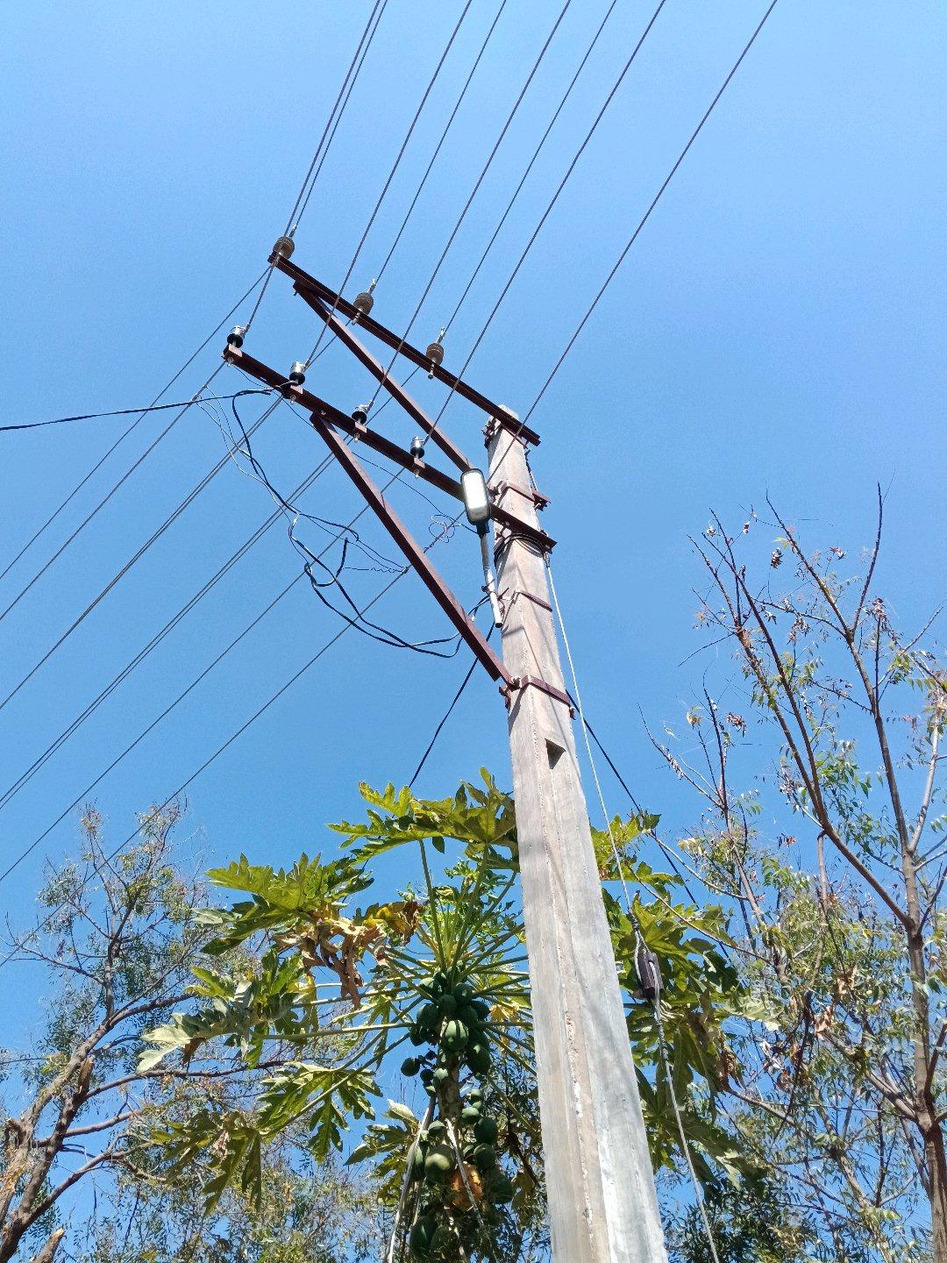{"0" "insulator", "1" "pole", "2" "crossarm", "3" "conductor", "4" "street_: (223, 238, 658, 1237), (556, 1240, 658, 1256), (595, 1253, 597, 1256)
